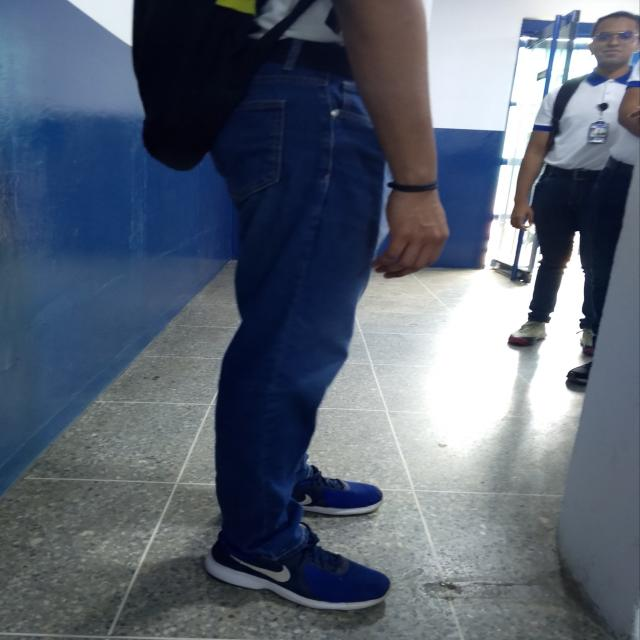carnet: (588, 124, 608, 142)
pantalon_oscuro: (209, 55, 387, 568), (528, 172, 630, 330)
uniforme_superior: (532, 65, 640, 171)
